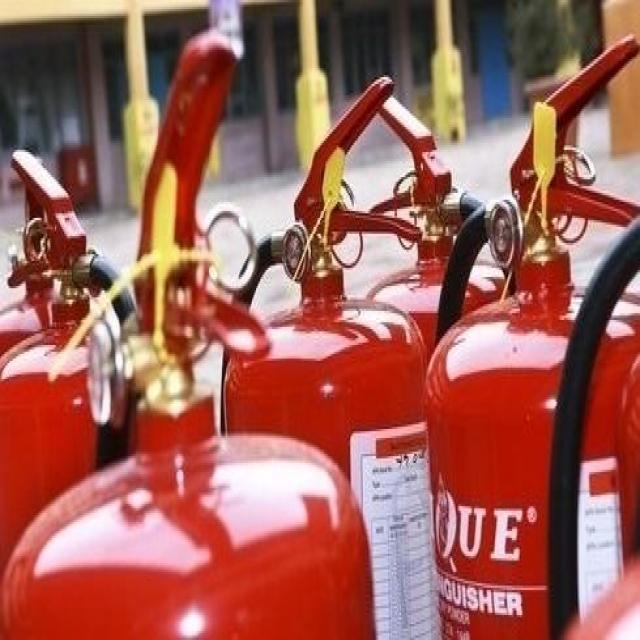fire_extinguisher: (0, 13, 376, 638), (215, 68, 463, 638), (419, 20, 638, 638), (345, 66, 543, 638), (0, 136, 171, 638)
